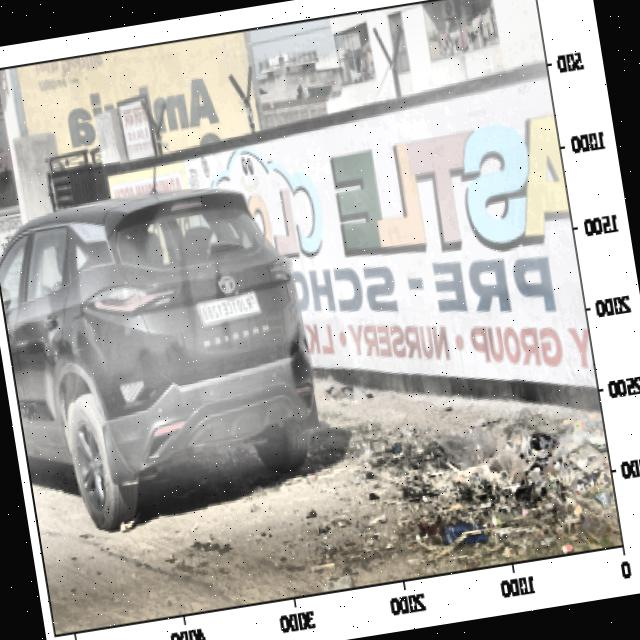license_plate: (195, 288, 262, 329)
